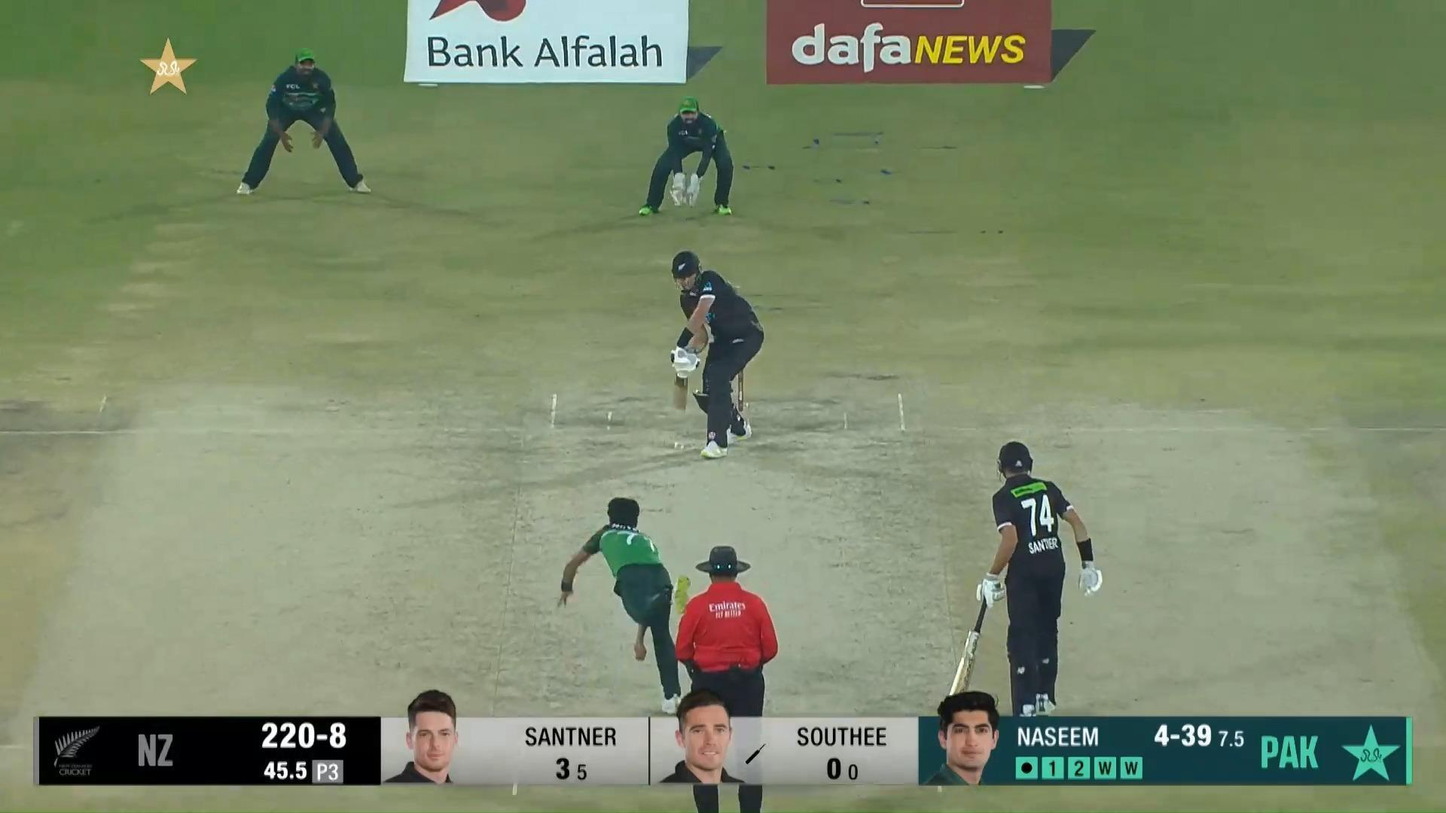BM 1: (670, 250, 764, 460)
BO: (554, 494, 695, 716)
